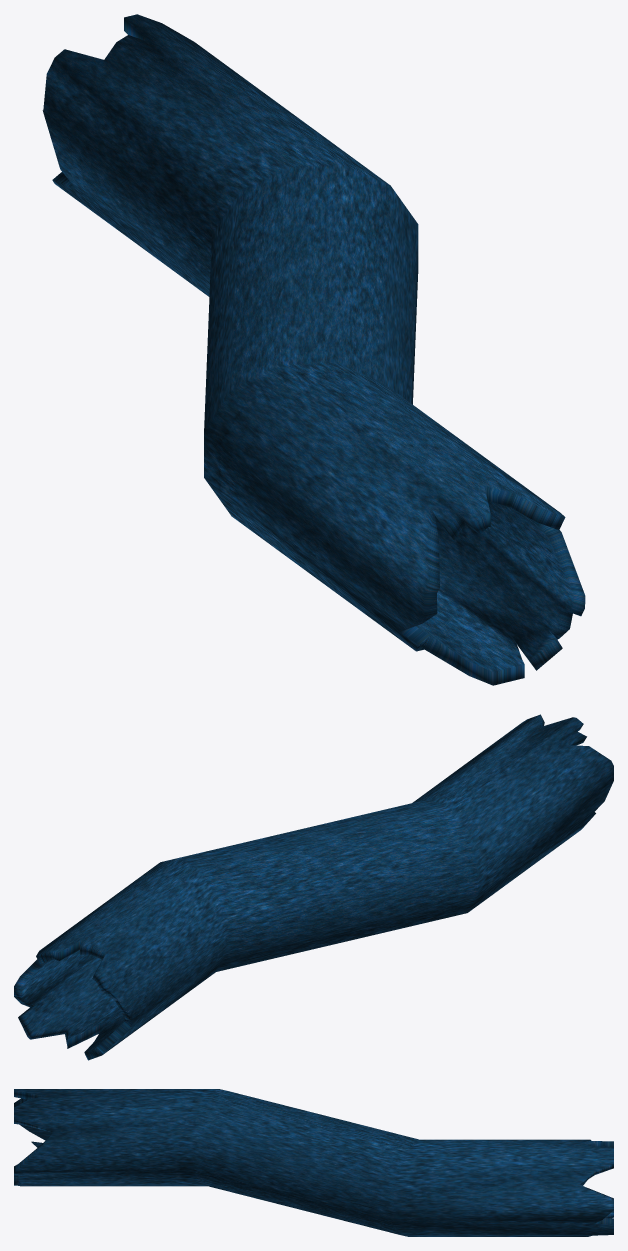
The model's file is Pipe02.fbx.
3 views of the same model, one above another, from view 1: azimuth 30°, elevation 25°; view 2: azimuth 150°, elevation 25°; view 3: azimuth 270°, elevation 25° (orthographic). The views are drawn at different scales.
Visible parts, largest first — view 1: Pipe02; view 2: Pipe02; view 3: Pipe02.
Boxes of the visible parts, x1=… form: Pipe02: x1=42, y1=14, x2=585, y2=685; Pipe02: x1=14, y1=714, x2=613, y2=1060; Pipe02: x1=14, y1=1089, x2=613, y2=1236.
Bounding box in the file's own units: 29.37 × 12.99 × 81.82.
